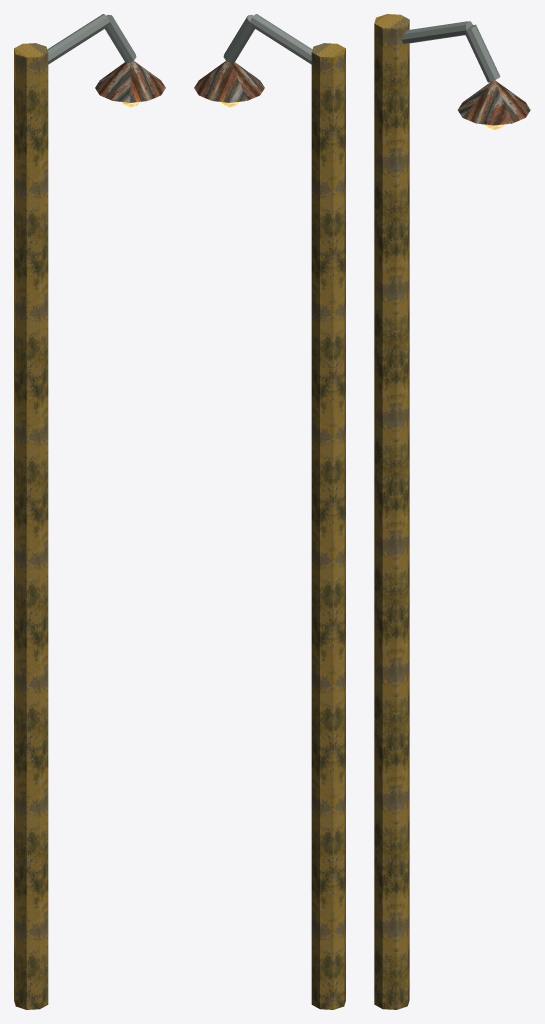
The model's file is lamp_post_village_reduced.glb.
3 renders of one model, left to right at view 1: azimuth 30°, elevation 25°; view 2: azimuth 150°, elevation 25°; view 3: azimuth 330°, elevation 25°, orthographic. The views are drawn at different scales.
Parts seen in each view (by area): view 1: ConcretePole, TinShade, JoinedMetalArm; view 2: ConcretePole, TinShade, JoinedMetalArm; view 3: ConcretePole, TinShade, JoinedMetalArm.
Part boxes in pixels (x1=…): ConcretePole: x1=14, y1=43, x2=48, y2=1009; TinShade: x1=95, y1=61, x2=165, y2=102; JoinedMetalArm: x1=47, y1=14, x2=136, y2=64; ConcretePole: x1=311, y1=43, x2=345, y2=1009; TinShade: x1=194, y1=61, x2=264, y2=102; JoinedMetalArm: x1=223, y1=14, x2=312, y2=64; ConcretePole: x1=374, y1=14, x2=409, y2=1009; TinShade: x1=458, y1=80, x2=530, y2=125; JoinedMetalArm: x1=401, y1=21, x2=500, y2=82.
Size of the model in its own units: 0.615 by 3.92 by 0.26.
4 materials, 2 textured.
